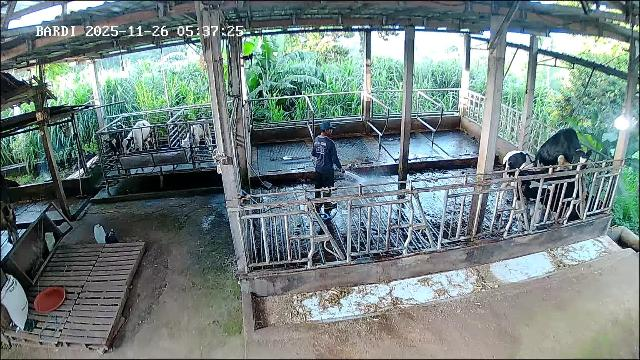mounting: (535, 128, 593, 179)
